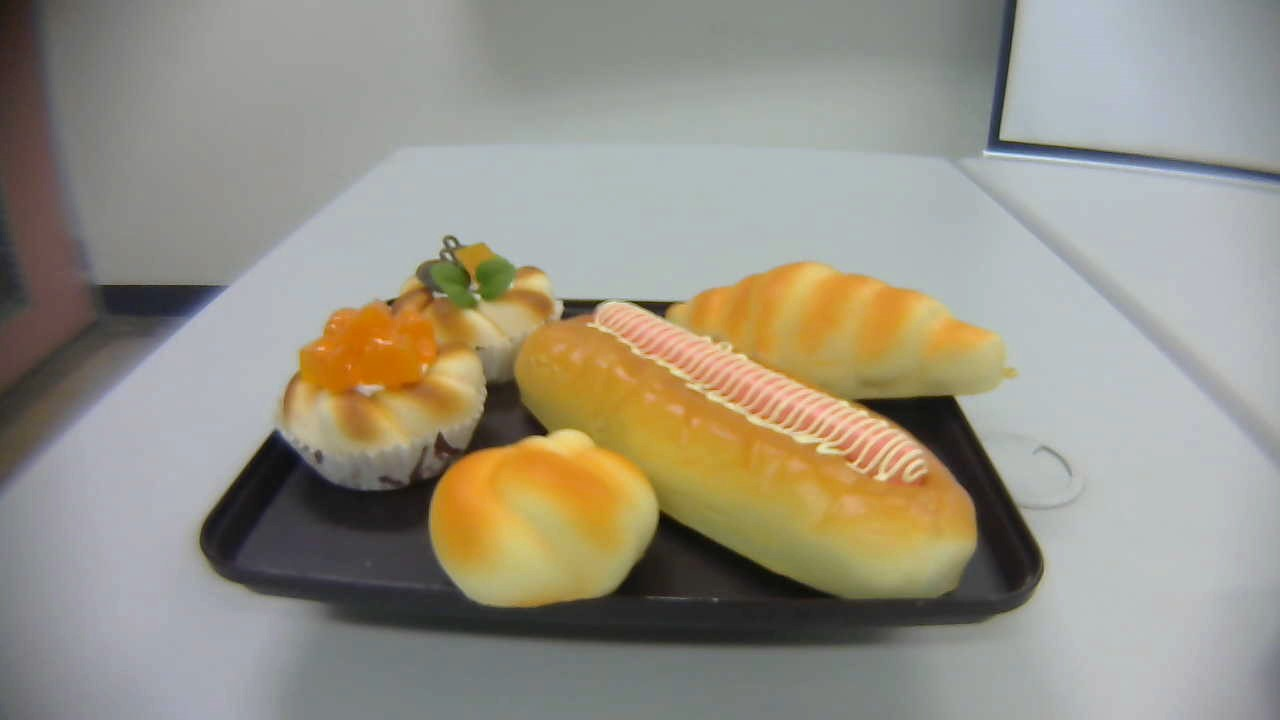croissant: (666, 260, 1020, 401)
fruit tart: (395, 235, 566, 383)
hot dog: (514, 298, 978, 604)
mango tart: (280, 301, 486, 490)
twist bread: (429, 430, 659, 609)
